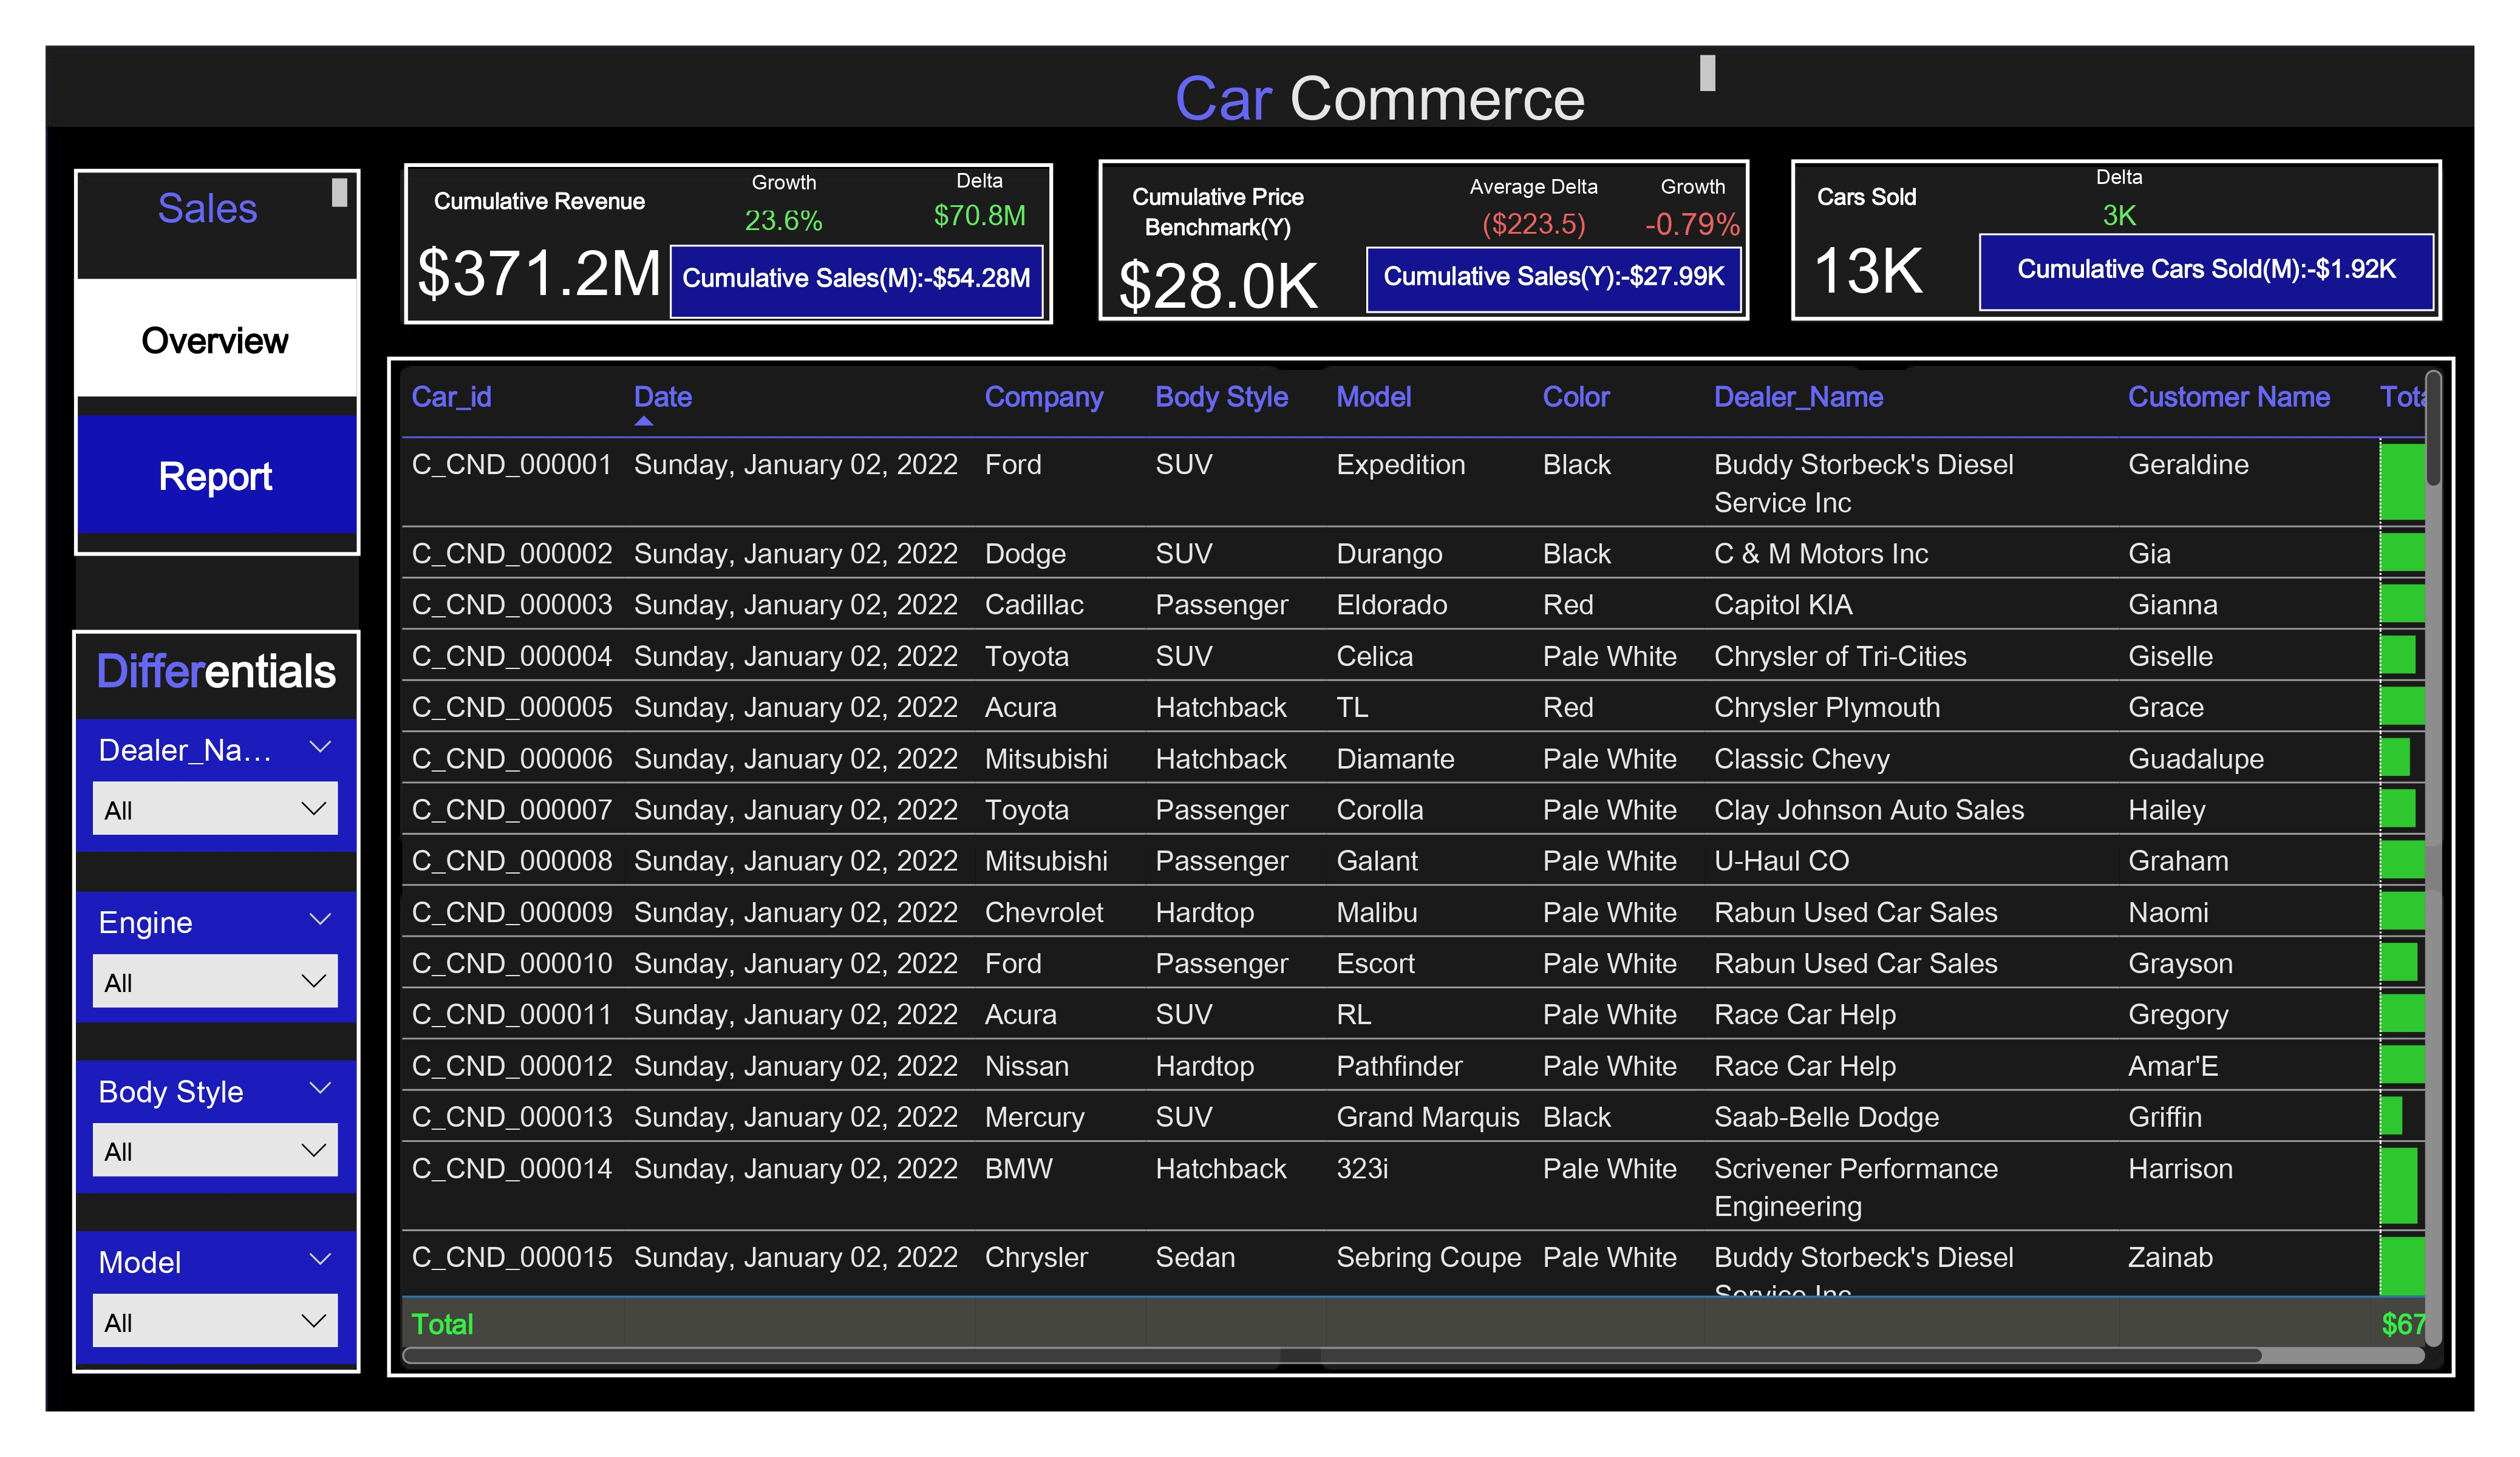

The dashboard page shown, as its layout file describes it:
{"tool":"powerbi","page":{"name":"Report","canvas":[1280,720],"ordinal":1},"visuals":[{"type":"card","title":"Cumulative Revenue","fields":{"Values":["car_data.Year To Date Total Sales"]},"box":[172.5,72.5,175,76.2],"z":0},{"type":"card","title":"Delta","fields":{"Values":["car_data.Sales Delta"]},"box":[455,63.8,75,41.2],"z":1000},{"type":"card","title":"Growth","fields":{"Values":["car_data.Sales Growth"]},"box":[351.2,65,76.2,37.5],"z":2000},{"type":"card","fields":{"Values":["car_data.MTD Total"]},"box":[328.8,105,197.5,38.8],"z":3000},{"type":"card","title":"Cumulative Price Benchmark(Y)","fields":{"Values":["car_data.Cumulative Price Benchmark(Y)"]},"box":[530,71,176,77],"z":4000},{"type":"card","title":"Average Delta","fields":{"Values":["car_data.Average Price Spread"]},"box":[693,67,183,44],"z":5000},{"type":"card","title":"Growth","fields":{"Values":["car_data.YoY  Avg Price Growth"]},"box":[777,67,183,44],"z":6000},{"type":"card","fields":{"Values":["car_data.YTD Total"]},"box":[696.2,106.2,197.5,35],"z":7000},{"type":"card","title":"Cars Sold","fields":{"Values":["car_data.YTD Car Sold"]},"box":[872.2,71.1,175.6,76.7],"z":8000},{"type":"card","title":"Delta","fields":{"Values":["car_data.Cars Sold Diff"]},"box":[1002.2,62.2,182.2,44.4],"z":9000},{"type":"card","fields":{"Values":["car_data.MTD Cars Sold N"]},"box":[1018.8,98.8,240,41.2],"z":10000},{"type":"slicer","fields":{"Values":["car_data.Dealer_Name"]},"box":[15,355,148.8,70],"z":11000},{"type":"slicer","fields":{"Values":["car_data.Model"]},"box":[15,625,148.8,70],"z":12000},{"type":"slicer","fields":{"Values":["car_data.Body Style"]},"box":[15,535,148.8,70],"z":13000},{"type":"slicer","fields":{"Values":["car_data.Engine"]},"box":[15,446.2,148.8,68.8],"z":14000},{"type":"textbox","box":[15.1,65.1,148.8,37.2],"z":15000},{"type":"pageNavigator","box":[15.1,123.3,148.8,134.9],"z":16000},{"type":"textbox","box":[8.1,307,164,53.5],"z":17000},{"type":"textbox","box":[530.2,0,354.7,50],"z":18000},{"type":"shape","box":[188.6,62.1,342.1,84.7],"z":19000},{"type":"shape","box":[555,60,342.5,85],"z":20000},{"type":"shape","box":[920,60,342.5,85],"z":21000},{"type":"shape","box":[13.8,307.5,152.5,392.5],"z":22000},{"type":"shape","box":[14.5,64.8,151.9,204.3],"z":23000},{"type":"tableEx","fields":{"Values":["car_data.Car_id","car_data.Date","car_data.Company","car_data.Body Style","car_data.Model","car_data.Color","car_data.Dealer_Name","car_data.Customer Name","car_data.Price ($)"]},"box":[180.2,164,1089.5,538.4],"z":24000}]}

Visuals, with their boxes on the page's 1280x720 design canvas (x1, y1, x2, y2). These are canvas units, not pixel positions in the 2520x1457 screenshot, which may show the page scaled, cropped or inside an application window:
"Cumulative Revenue" card: locate(172, 72, 348, 149)
"Delta" card: locate(455, 64, 530, 105)
"Growth" card: locate(351, 65, 427, 102)
card - car_data.MTD Total: locate(329, 105, 526, 144)
"Cumulative Price Benchmark(Y)" card: locate(530, 71, 706, 148)
"Average Delta" card: locate(693, 67, 876, 111)
"Growth" card: locate(777, 67, 960, 111)
card - car_data.YTD Total: locate(696, 106, 894, 141)
"Cars Sold" card: locate(872, 71, 1048, 148)
"Delta" card: locate(1002, 62, 1184, 107)
card - car_data.MTD Cars Sold N: locate(1019, 99, 1259, 140)
slicer - car_data.Dealer_Name: locate(15, 355, 164, 425)
slicer - car_data.Model: locate(15, 625, 164, 695)
slicer - car_data.Body Style: locate(15, 535, 164, 605)
slicer - car_data.Engine: locate(15, 446, 164, 515)
textbox: locate(15, 65, 164, 102)
pageNavigator: locate(15, 123, 164, 258)
textbox: locate(8, 307, 172, 360)
textbox: locate(530, 0, 885, 50)
shape: locate(189, 62, 531, 147)
shape: locate(555, 60, 898, 145)
shape: locate(920, 60, 1262, 145)
shape: locate(14, 308, 166, 700)
shape: locate(14, 65, 166, 269)
tableEx - car_data.Car_id x car_data.Date: locate(180, 164, 1270, 702)
